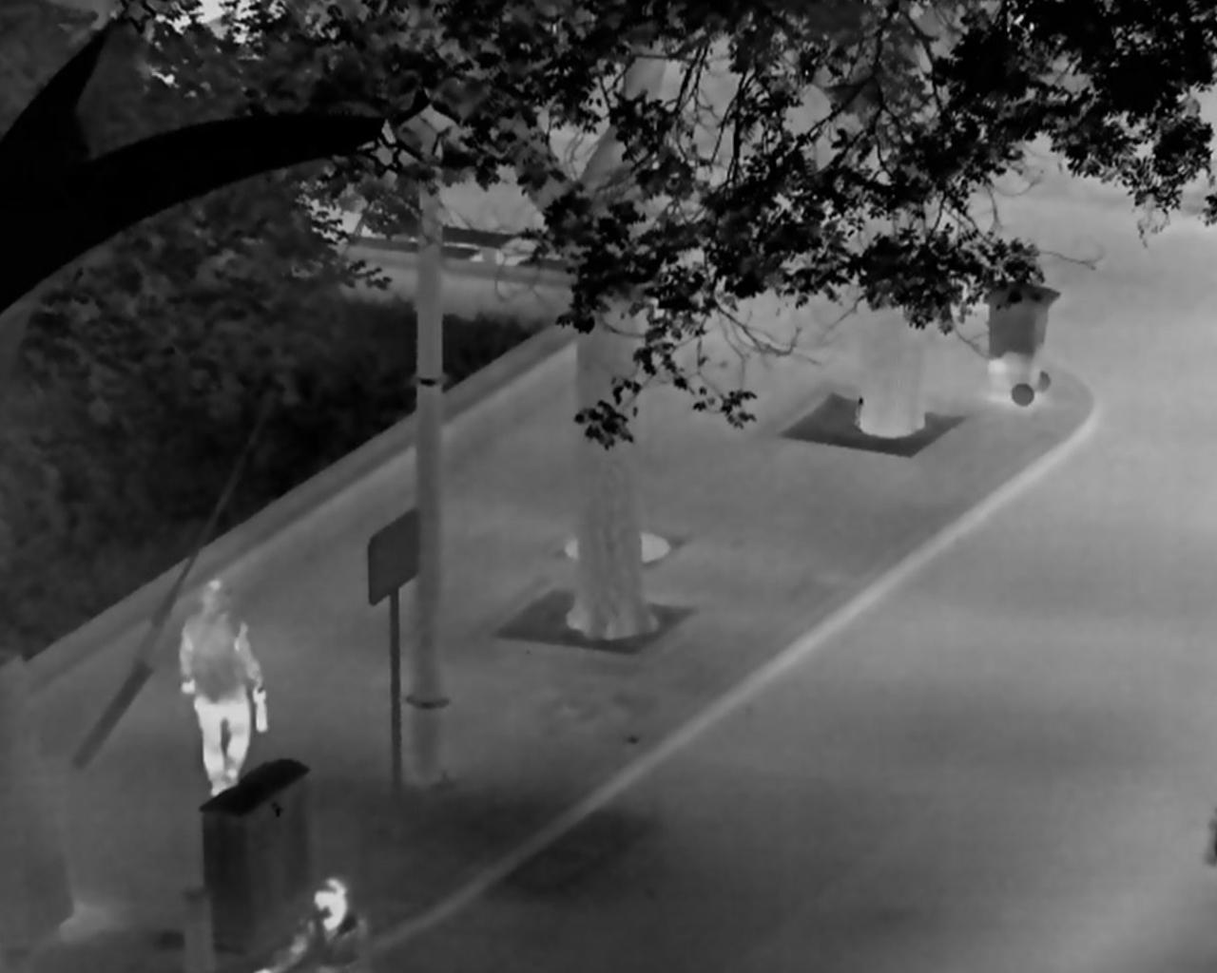person: (178, 577, 270, 797), (253, 876, 370, 973)
